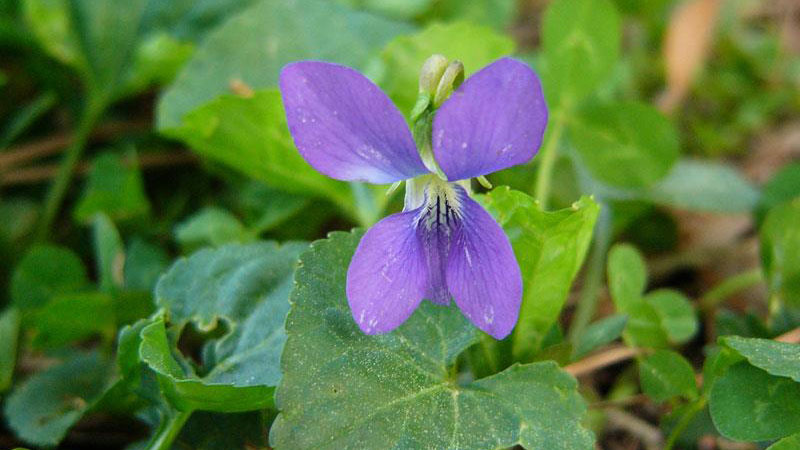violet: (259, 52, 559, 360)
